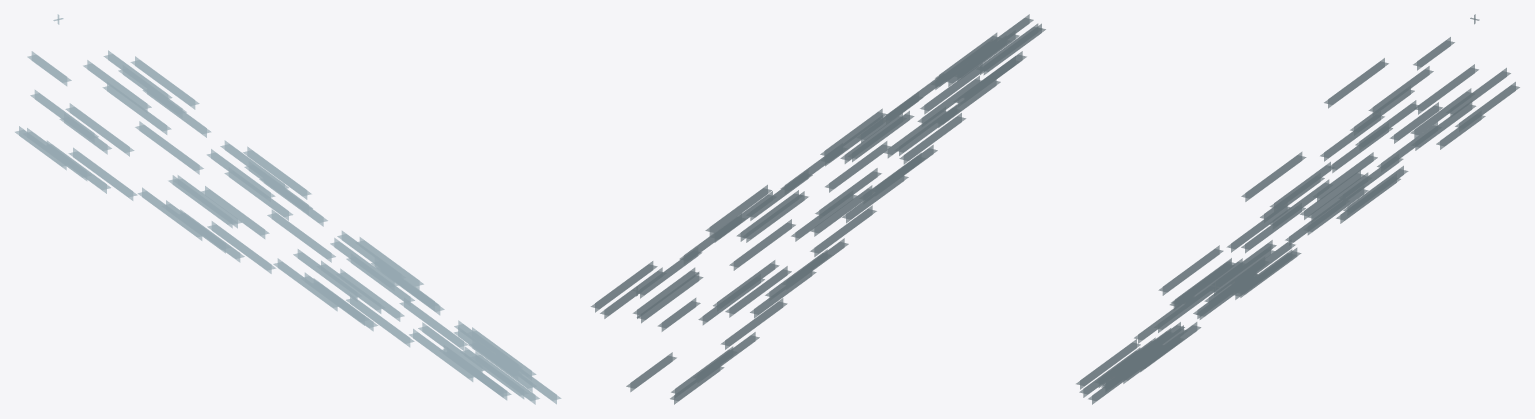
The model's file is wp_water_332.obj.
3 renders of one model, left to right at view 1: azimuth 30°, elevation 25°; view 2: azimuth 150°, elevation 25°; view 3: azimuth 330°, elevation 25°, orthographic. The views are drawn at different scales.
Bounding box in the file's own units: 0.2973 × 0.2627 × 1.8.
Materials: 1 (1 with a texture image).
